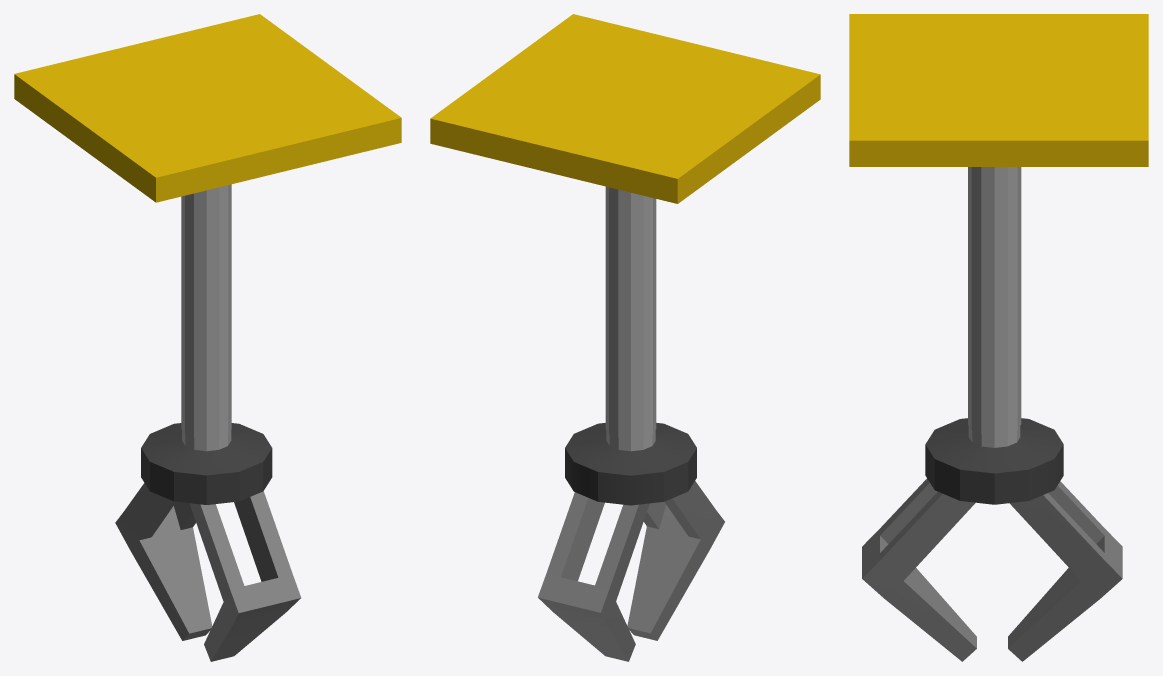
File: pince 2.fbx
3 renders of one model, left to right at view 1: azimuth 30°, elevation 25°; view 2: azimuth 150°, elevation 25°; view 3: azimuth 270°, elevation 25°, orthographic. The views are drawn at different scales.
Visible parts, largest first — view 1: support, bout, bras; view 2: support, bout, bras; view 3: support, bout, bras.
Boxes of the visible parts, <box> form: support: <box>14,14,401,202</box>; bout: <box>115,423,301,661</box>; bras: <box>181,184,231,439</box>; support: <box>430,14,820,203</box>; bout: <box>538,423,724,661</box>; bras: <box>605,186,656,439</box>; support: <box>849,14,1148,166</box>; bout: <box>862,418,1122,661</box>; bras: <box>968,167,1021,435</box>.
Bounding box in the file's own units: 1 × 2.14 × 1.
